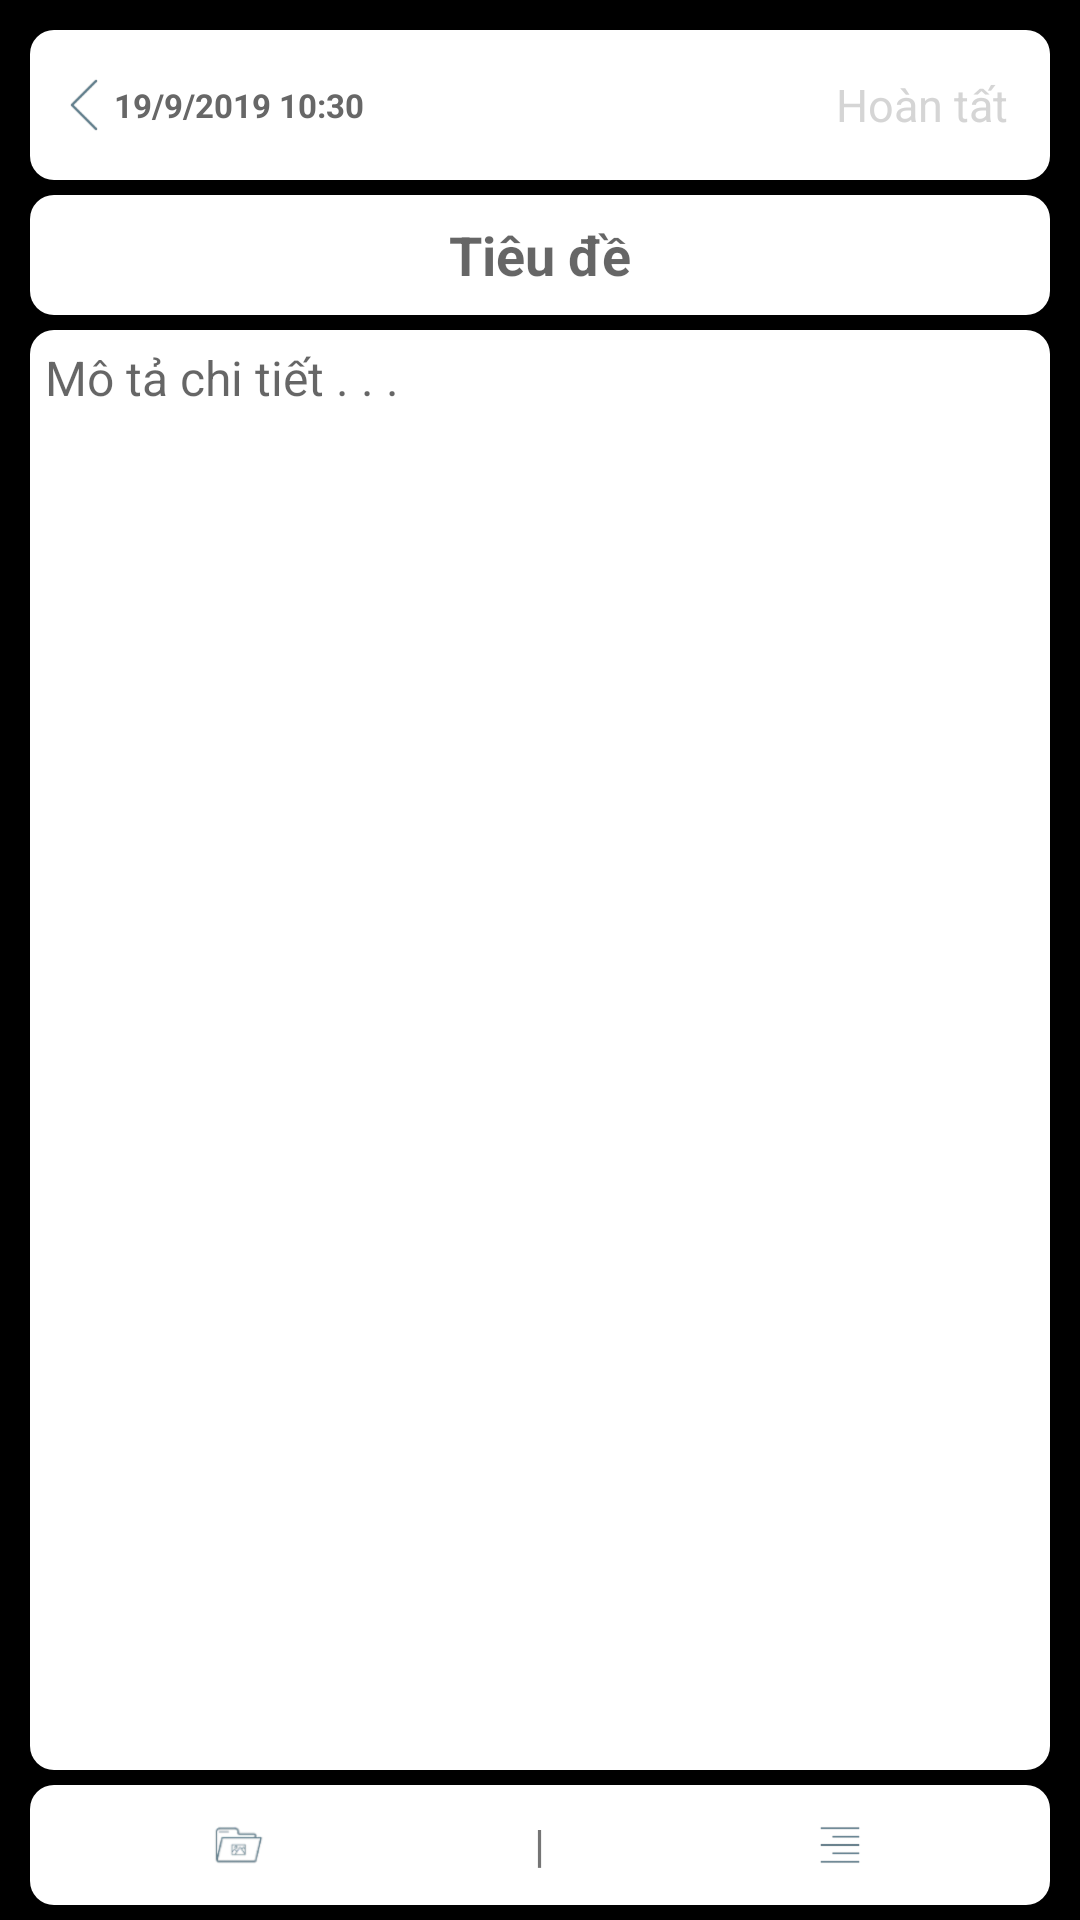

Screen size 1080 x 1920. Icon name, then its box in pixels as {"left": x1, "top": y1, "right": x2, "bottom": y2}:
align: {"left": 820, "top": 1827, "right": 860, "bottom": 1863}
